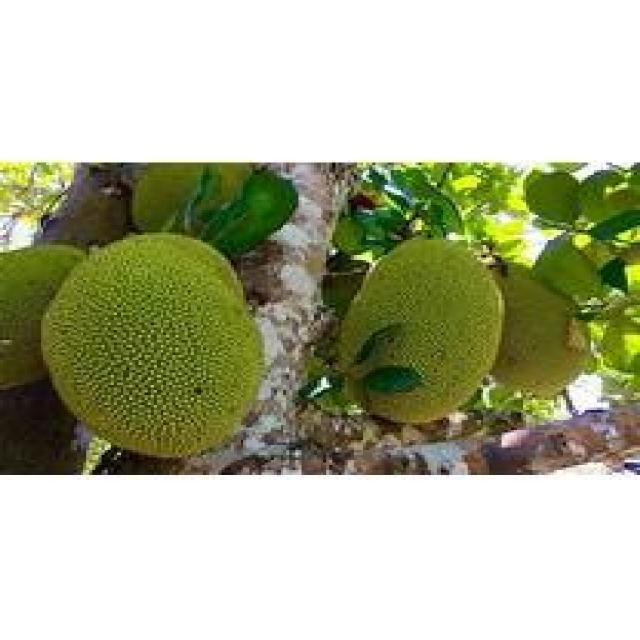Fruit: (31, 222, 280, 470), (317, 225, 514, 440)
